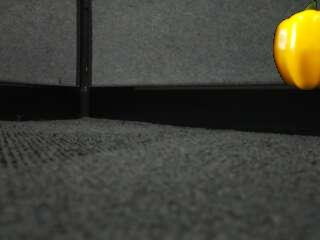Capsicum: (274, 2, 320, 92)
